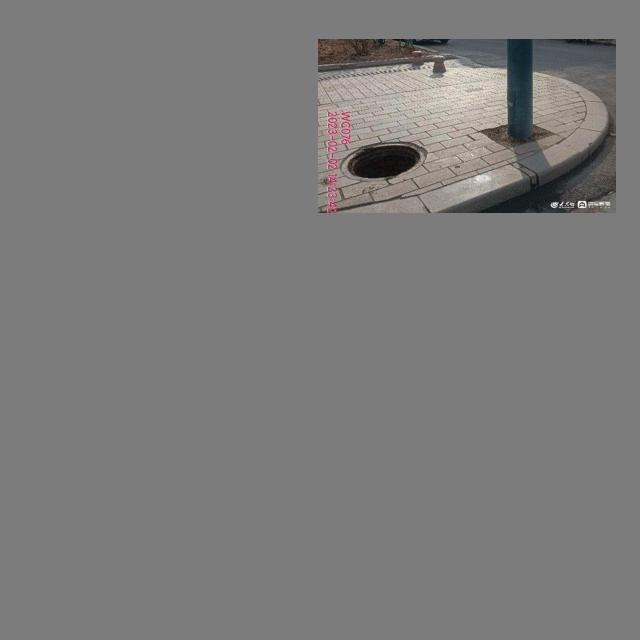lose: (340, 139, 427, 180)
